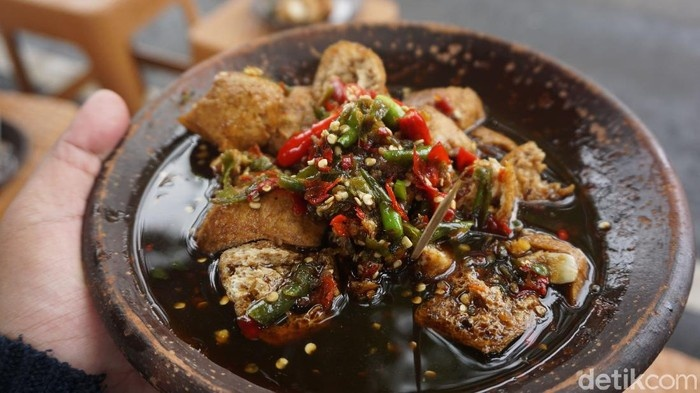tahu_gejrot: (176, 40, 595, 366)
